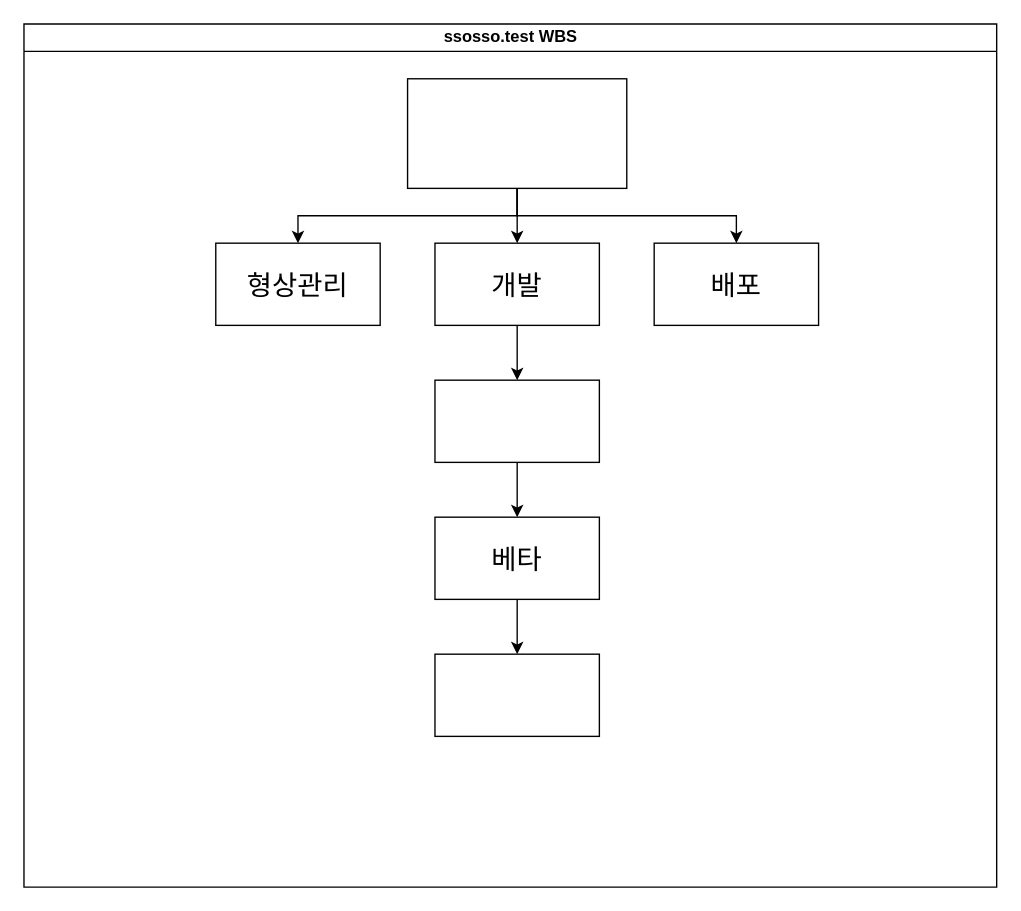
The diagram is 1021 pixels wide and 911 high, and some of its shapes have lost their labels. The centre of each missing label's shape, as x and y in pixels:
소소테스트: pixel 516 132
알파: pixel 516 420
최종배포: pixel 516 694
